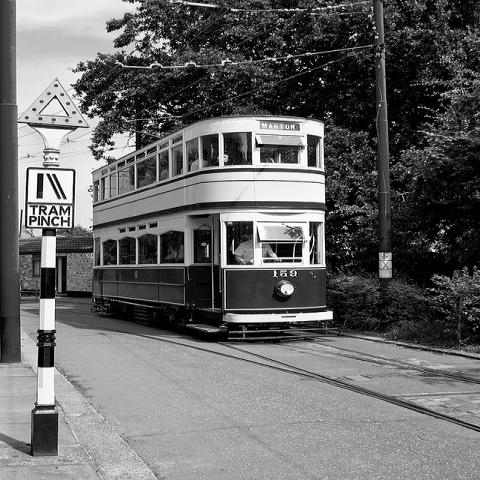bus: (90, 117, 336, 345)
